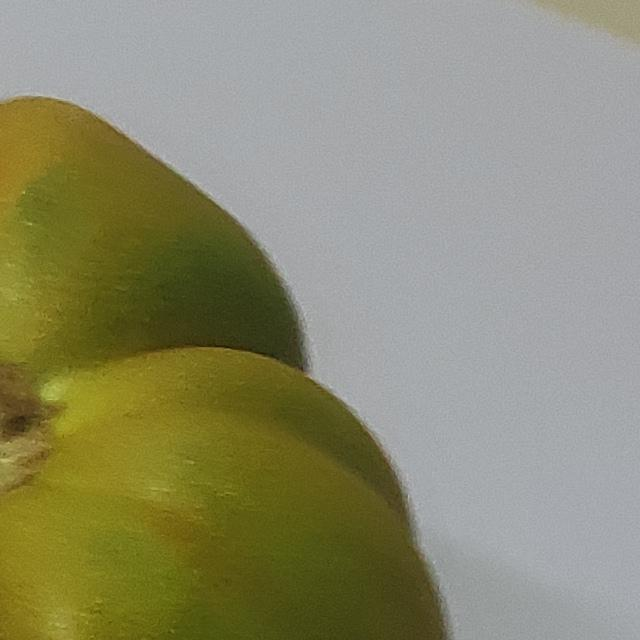tomato: (0, 4, 518, 640)
